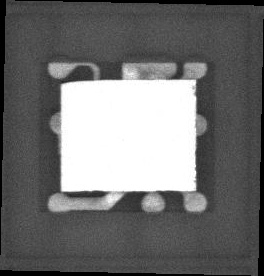DIE_BROKEN: (60, 79, 94, 85)
